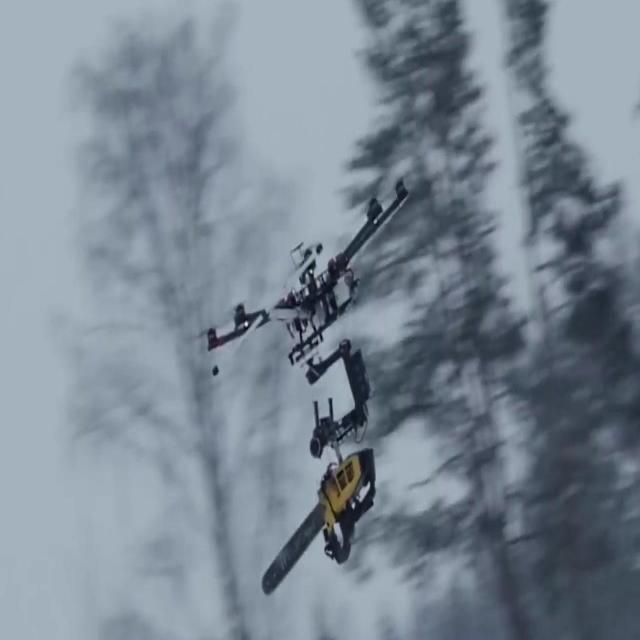UAV: (184, 177, 410, 377)
